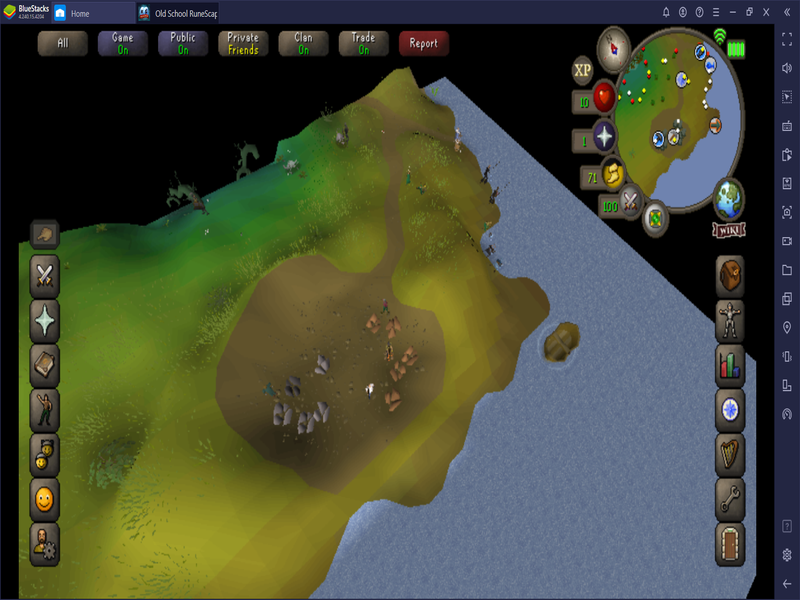copper_rock_1: (364, 313, 383, 336)
copper_rock_2: (382, 316, 404, 339)
